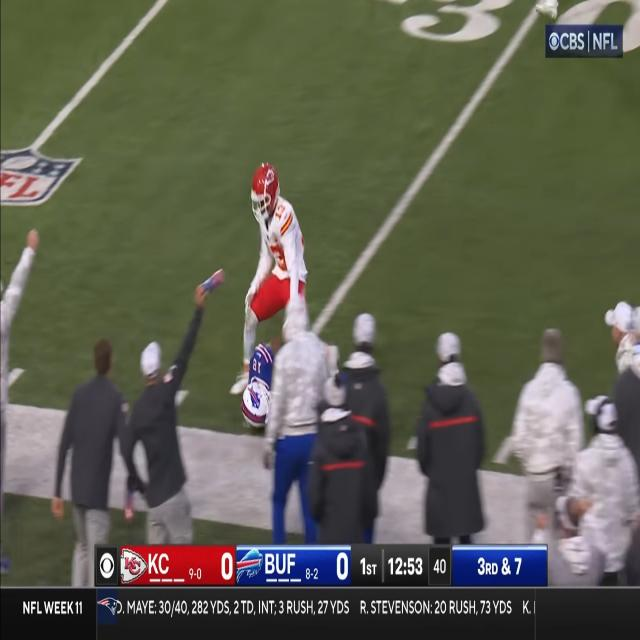Player: (244, 164, 306, 328)
